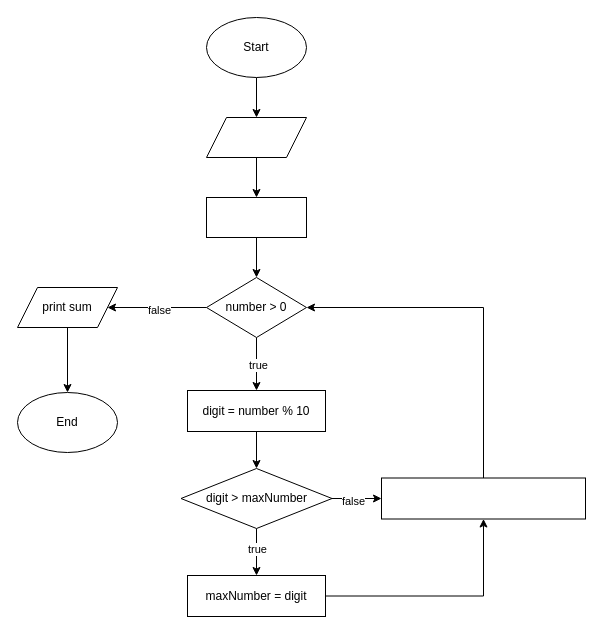
Image size: 603x634. Some labels were removed from this diagram. The shapes that lost their labels are listed below. From the top down, each one's box as (x1, y1, x2, y2) in pixels, then its label:
(206, 116, 306, 158): Number
(206, 196, 306, 238): maxNumber = 0
(380, 477, 586, 519): number = Math.floor(number/10)
